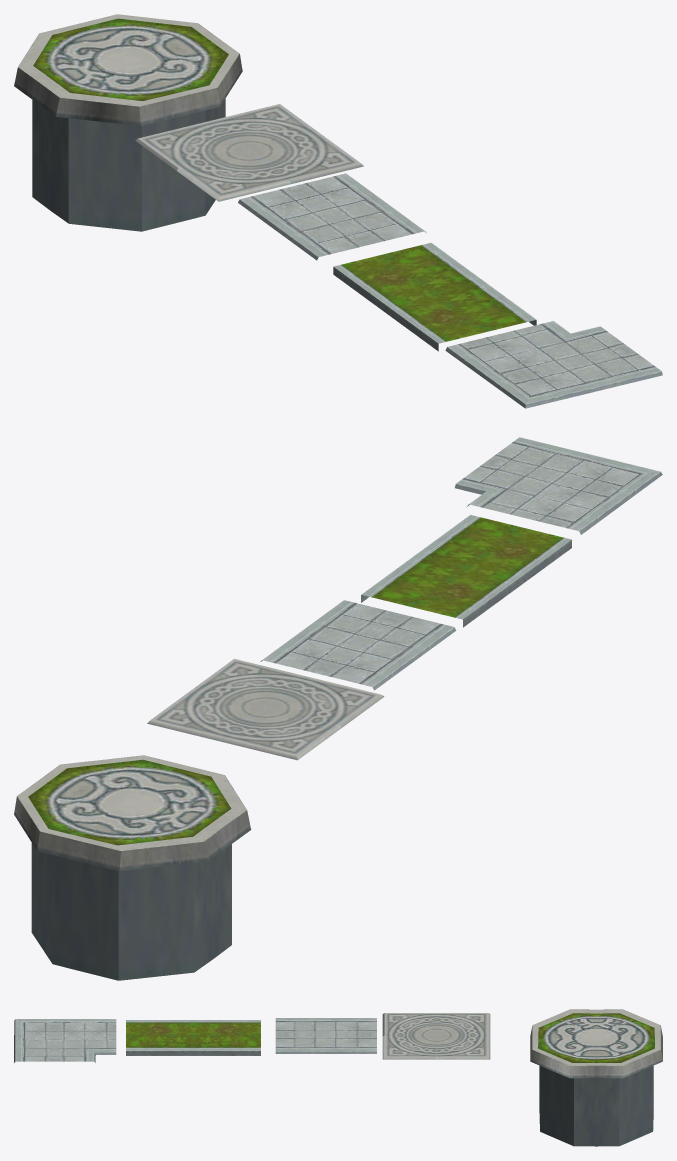
The model's file is jm_dibiaozajian01.FBX.
3 renders of one model, top to bottom at view 1: azimuth 30°, elevation 25°; view 2: azimuth 150°, elevation 25°; view 3: azimuth 270°, elevation 25°, orthographic. The views are drawn at different scales.
Parts seen in each view (by area): view 1: jm_dibiaozajian01_001, jm_dibiaozajian01_002, jm_dibiaozajian01_004, jm_dibiaozajian01_006, jm_dibiaozajian01_003; view 2: jm_dibiaozajian01_001, jm_dibiaozajian01_002, jm_dibiaozajian01_004, jm_dibiaozajian01_006, jm_dibiaozajian01_003; view 3: jm_dibiaozajian01_001, jm_dibiaozajian01_002, jm_dibiaozajian01_004, jm_dibiaozajian01_006, jm_dibiaozajian01_003.
Boxes of the visible parts, x1,y1,x2,y2 form: jm_dibiaozajian01_001: [14, 14, 242, 231]; jm_dibiaozajian01_002: [135, 104, 363, 201]; jm_dibiaozajian01_004: [333, 242, 536, 351]; jm_dibiaozajian01_006: [445, 321, 662, 408]; jm_dibiaozajian01_003: [238, 173, 426, 260]; jm_dibiaozajian01_001: [14, 755, 251, 980]; jm_dibiaozajian01_002: [147, 658, 384, 760]; jm_dibiaozajian01_004: [361, 515, 571, 627]; jm_dibiaozajian01_006: [454, 437, 662, 534]; jm_dibiaozajian01_003: [260, 600, 456, 690]; jm_dibiaozajian01_001: [530, 1009, 662, 1146]; jm_dibiaozajian01_002: [382, 1013, 490, 1059]; jm_dibiaozajian01_004: [126, 1020, 260, 1055]; jm_dibiaozajian01_006: [14, 1019, 116, 1062]; jm_dibiaozajian01_003: [275, 1018, 376, 1053].
Bounding box in the file's own units: 1.59 × 1.08 × 7.48.
